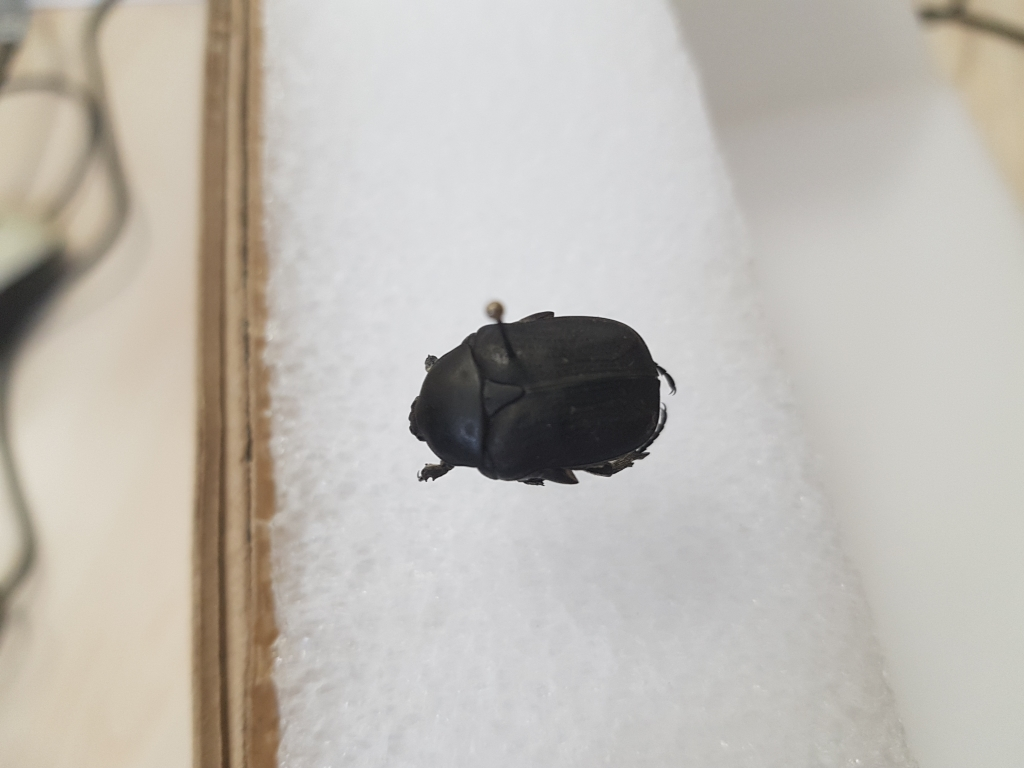Protaetia_asiatica: (400, 308, 681, 493)
